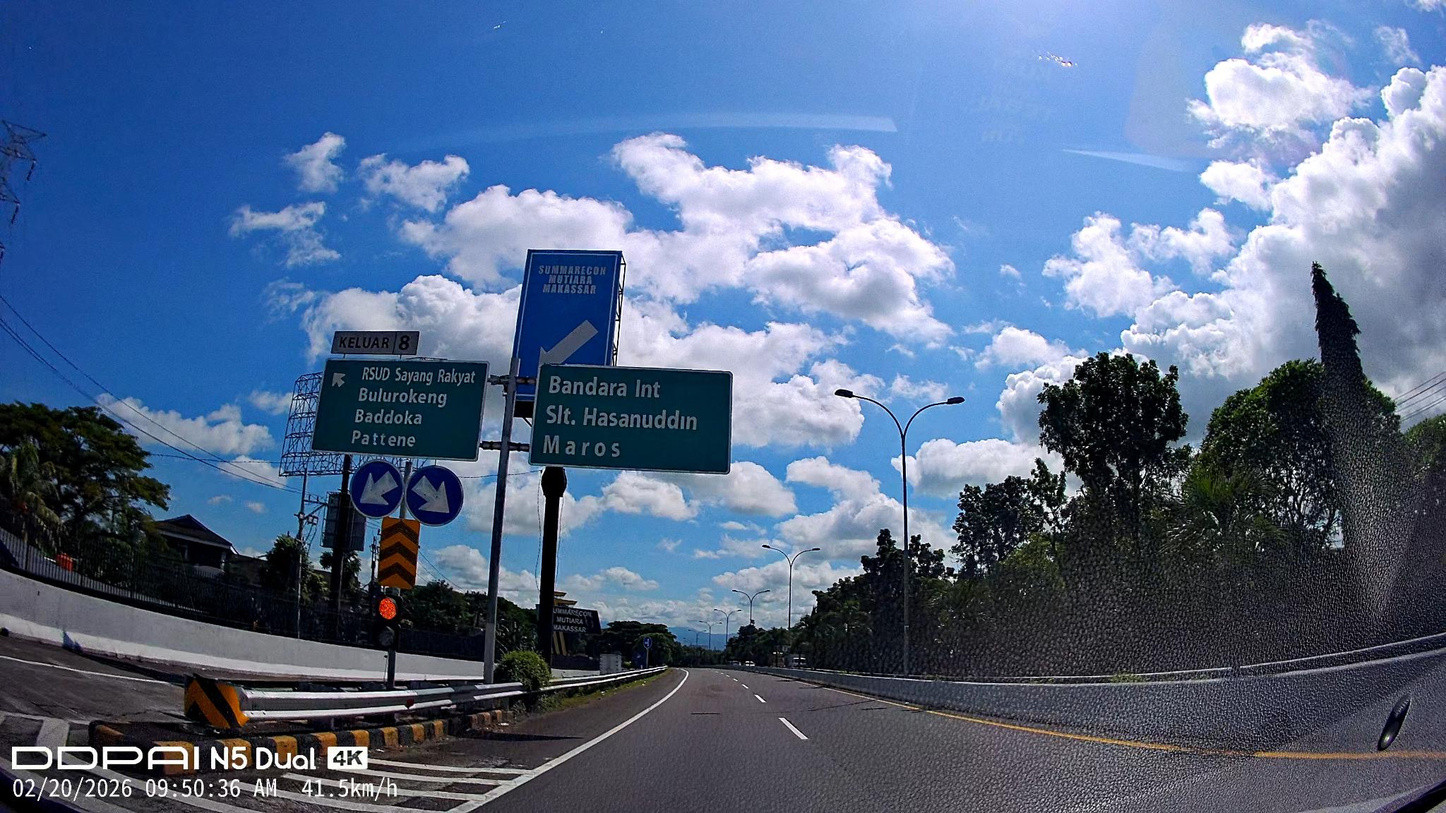rambu_teks: (527, 362, 735, 476), (309, 357, 491, 463)
